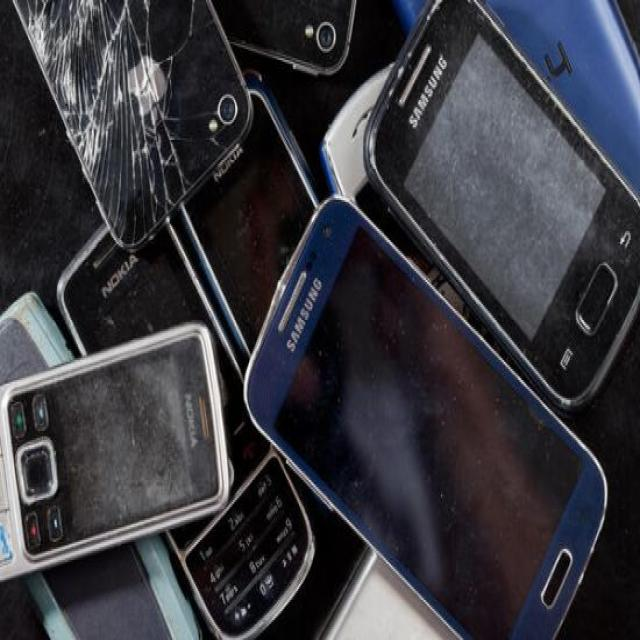electronic: (202, 106, 635, 640), (356, 12, 640, 405), (0, 317, 262, 603), (166, 61, 332, 392)
